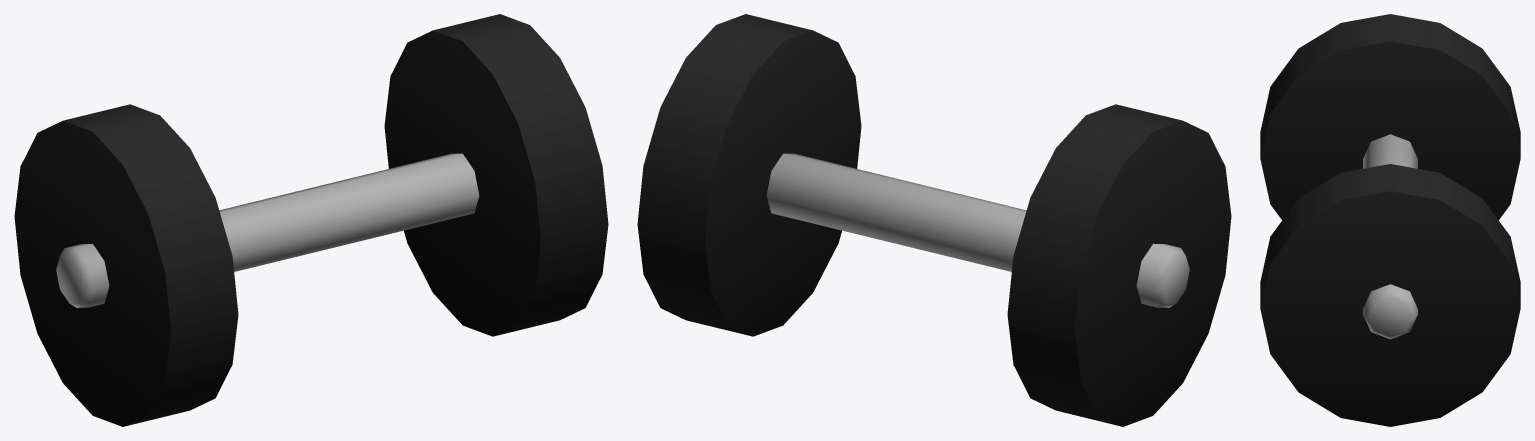
The model's file is SM_Gym_item_5.fbx.
3 renders of one model, left to right at view 1: azimuth 30°, elevation 25°; view 2: azimuth 150°, elevation 25°; view 3: azimuth 270°, elevation 25°, orthographic. The views are drawn at different scales.
Visible parts, largest first — view 1: SM_Gym_item_5; view 2: SM_Gym_item_5; view 3: SM_Gym_item_5.
Boxes of the visible parts, x1,y1,x2,y2 form: SM_Gym_item_5: [14, 14, 608, 426]; SM_Gym_item_5: [637, 14, 1231, 426]; SM_Gym_item_5: [1260, 14, 1520, 426].
Size of the model in its own units: 42.6 by 24.02 by 24.02.
1 material, 1 textured.
